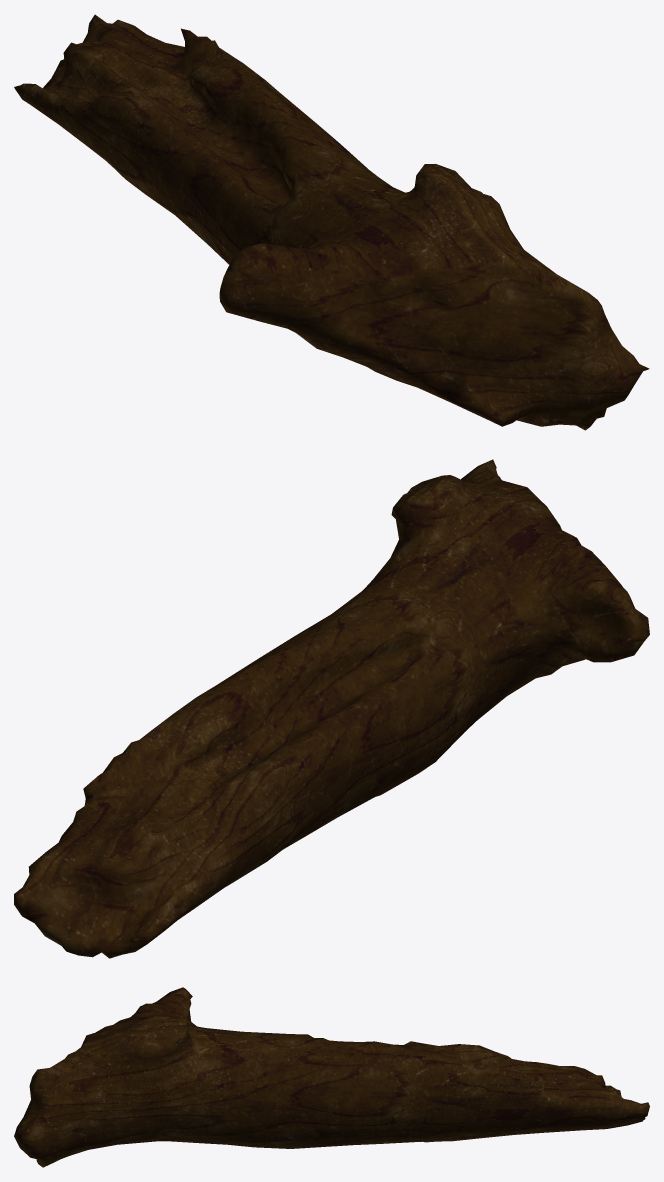
File: SM_Sticks_Large_03.fbx
The picture shows the model from 3 angles, top to bottom: view 1: azimuth 30°, elevation 25°; view 2: azimuth 150°, elevation 25°; view 3: azimuth 270°, elevation 25°; orthographic projection. The views are drawn at different scales.
Parts seen in each view (by area): view 1: SM_Sticks_Large_03; view 2: SM_Sticks_Large_03; view 3: SM_Sticks_Large_03.
Boxes of the visible parts, x1=… form: SM_Sticks_Large_03: x1=14, y1=14, x2=649, y2=430; SM_Sticks_Large_03: x1=14, y1=459, x2=649, y2=958; SM_Sticks_Large_03: x1=14, y1=987, x2=649, y2=1167.
Size of the model in its own units: 36.93 by 100 by 23.53.
1 material, 1 textured.
